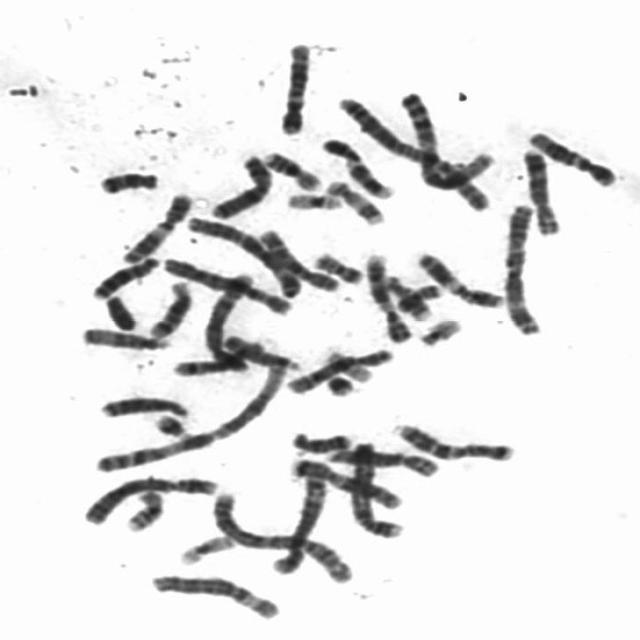A1: (88, 356, 290, 476), (392, 87, 493, 212)
A2: (331, 90, 494, 212), (204, 487, 356, 585)
A3: (182, 212, 304, 298), (498, 197, 550, 338)
B4: (77, 471, 222, 527), (342, 436, 407, 540)
B5: (265, 467, 330, 576), (196, 266, 258, 374)
C10: (254, 223, 344, 294), (283, 344, 396, 396)
C11: (115, 187, 196, 264), (410, 247, 506, 310)
C12: (522, 126, 622, 188), (273, 38, 314, 137)
C6: (157, 253, 296, 316), (145, 567, 285, 622)
C7: (284, 452, 406, 511), (389, 418, 519, 463)
C8: (322, 442, 444, 478), (517, 144, 564, 237)
C9: (316, 132, 397, 201), (359, 249, 415, 344)
D13: (87, 252, 163, 300), (95, 391, 194, 421)
D14: (168, 339, 260, 377), (143, 276, 194, 340)
D15: (218, 330, 302, 372), (77, 322, 175, 351)
E16: (257, 146, 324, 193), (120, 485, 167, 533)
E17: (321, 175, 388, 227), (378, 270, 434, 322)
E18: (94, 166, 163, 195), (286, 426, 355, 454)
F19: (174, 530, 238, 566), (281, 188, 346, 212)
F20: (308, 246, 367, 286), (391, 280, 445, 314)
G21: (149, 409, 194, 440), (319, 368, 359, 398)
G22: (322, 346, 375, 384), (414, 313, 464, 348)
X: (205, 149, 274, 220)
Y: (100, 290, 140, 332)
